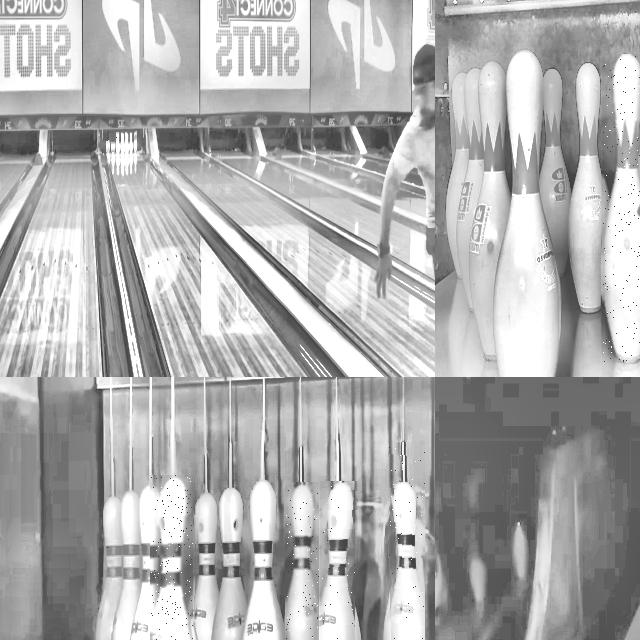bowling-pins: (492, 49, 560, 377), (468, 60, 510, 361), (603, 54, 640, 362), (568, 62, 608, 312), (389, 443, 425, 640), (242, 477, 285, 640), (151, 476, 192, 640), (456, 67, 483, 309), (539, 68, 570, 276), (321, 481, 354, 640), (212, 486, 246, 640), (286, 483, 319, 640), (445, 72, 469, 278), (130, 482, 161, 640), (112, 489, 140, 640), (95, 494, 122, 640), (192, 491, 218, 640), (116, 132, 119, 152), (114, 137, 114, 151), (136, 134, 136, 150)
